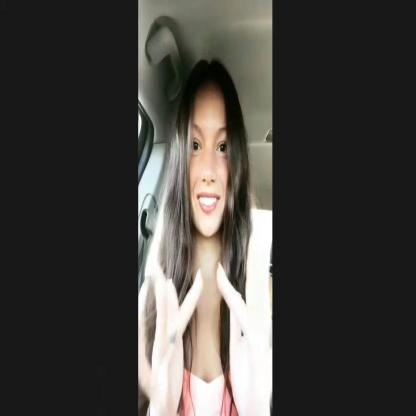Internet: (149, 60, 277, 416)
